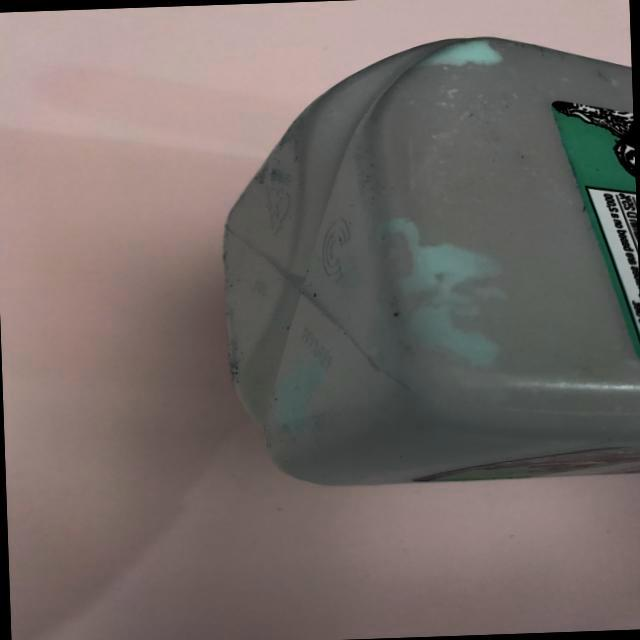plastic: (189, 17, 640, 502)
